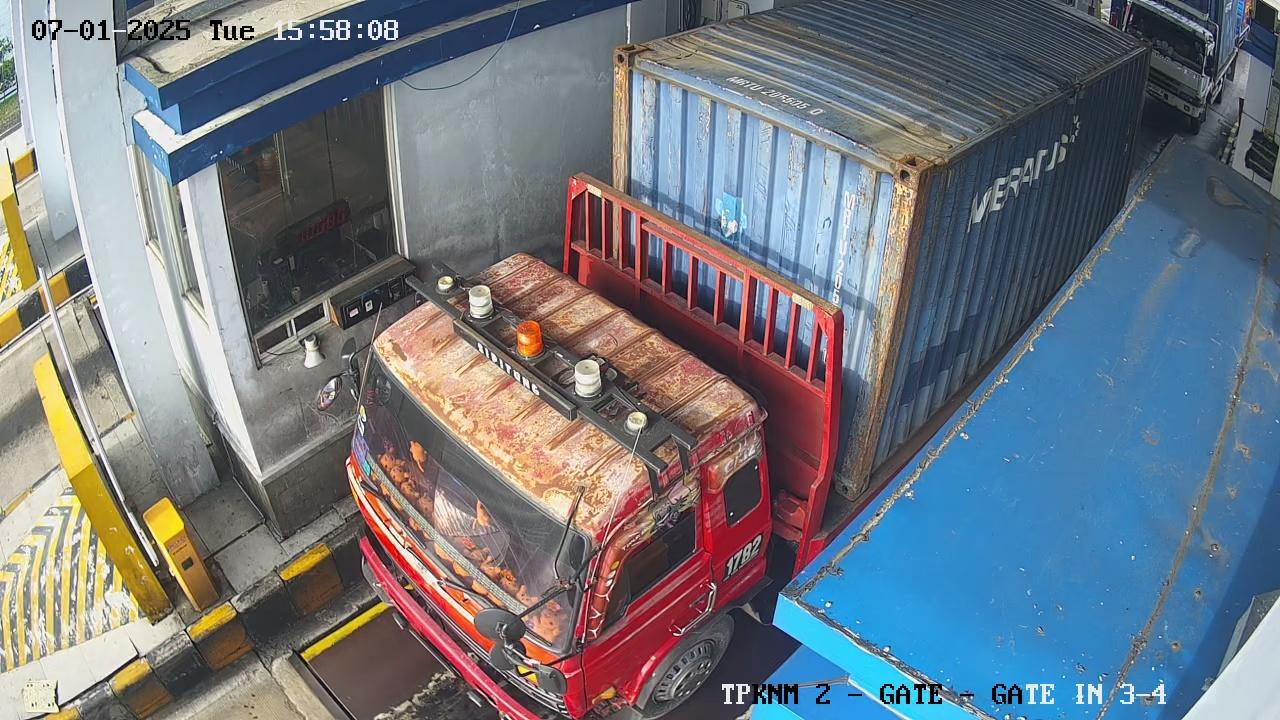Container_ID: (725, 74, 825, 122)
Container_ID_Vertikal: (832, 163, 865, 305)
truck_id: (723, 530, 768, 579)
